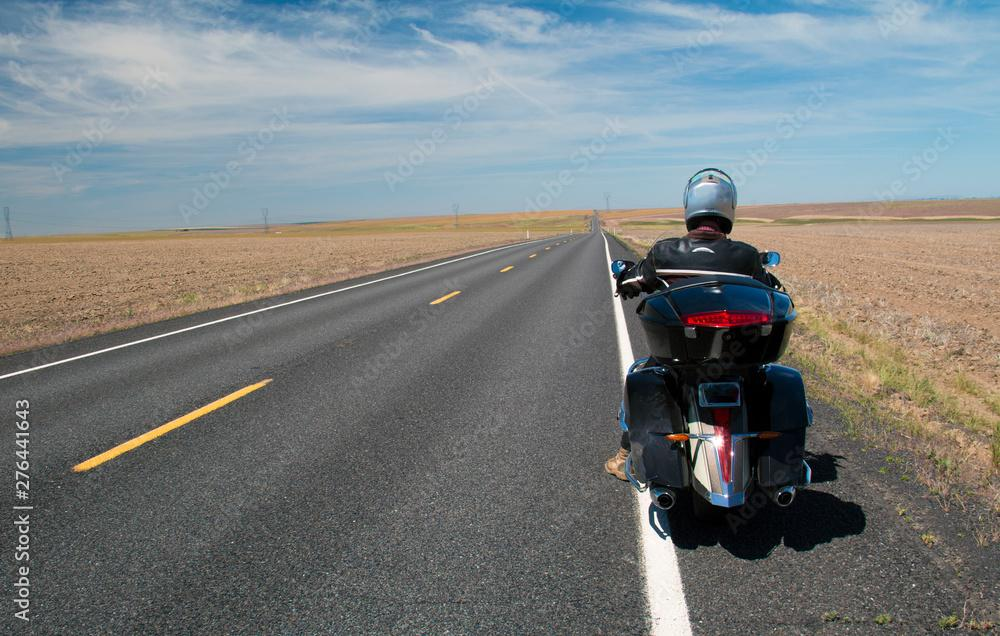helmet: (682, 167, 738, 235)
